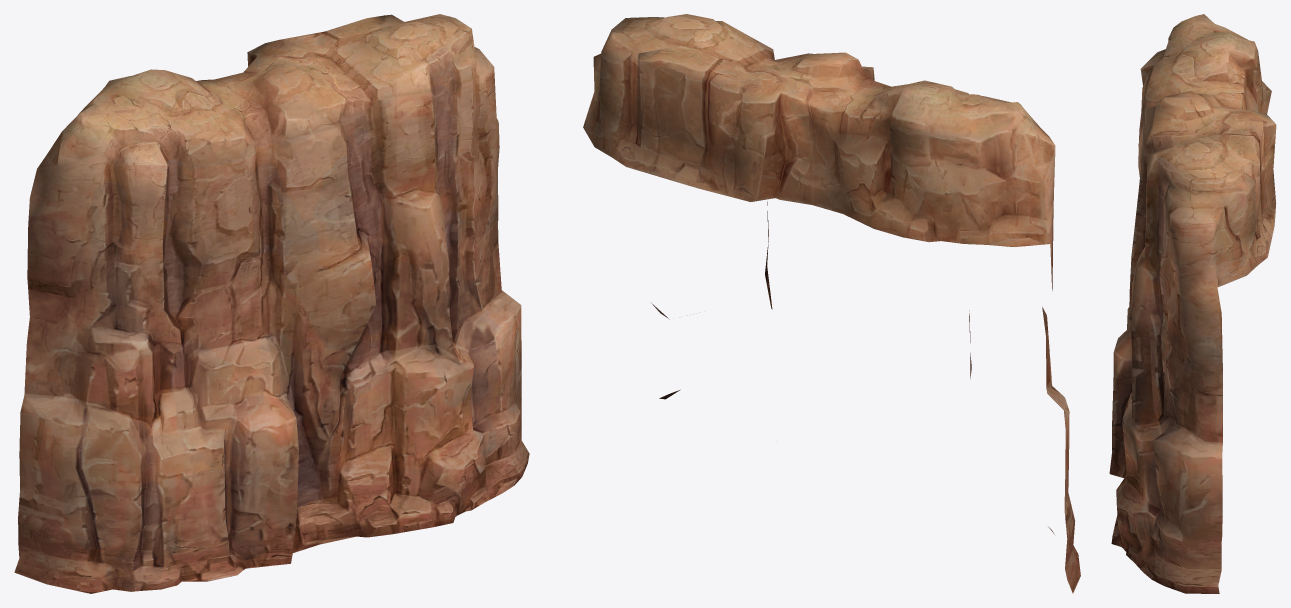
Rendered from kor_wilds_cliff_40m_small.glb.
3 renders of one model, left to right at view 1: azimuth 30°, elevation 25°; view 2: azimuth 150°, elevation 25°; view 3: azimuth 270°, elevation 25°, orthographic. The views are drawn at different scales.
Parts seen in each view (by area): view 1: kor_wilds_cliff_40m_small; view 2: kor_wilds_cliff_40m_small; view 3: kor_wilds_cliff_40m_small.
Boxes of the visible parts, x1,y1,x2,y2 form: kor_wilds_cliff_40m_small: (14, 14, 529, 593); kor_wilds_cliff_40m_small: (583, 14, 1080, 593); kor_wilds_cliff_40m_small: (1109, 14, 1276, 593).
Bounding box in the file's own units: 4.94 × 4.35 × 1.64.
Materials: 1 (1 with a texture image).
